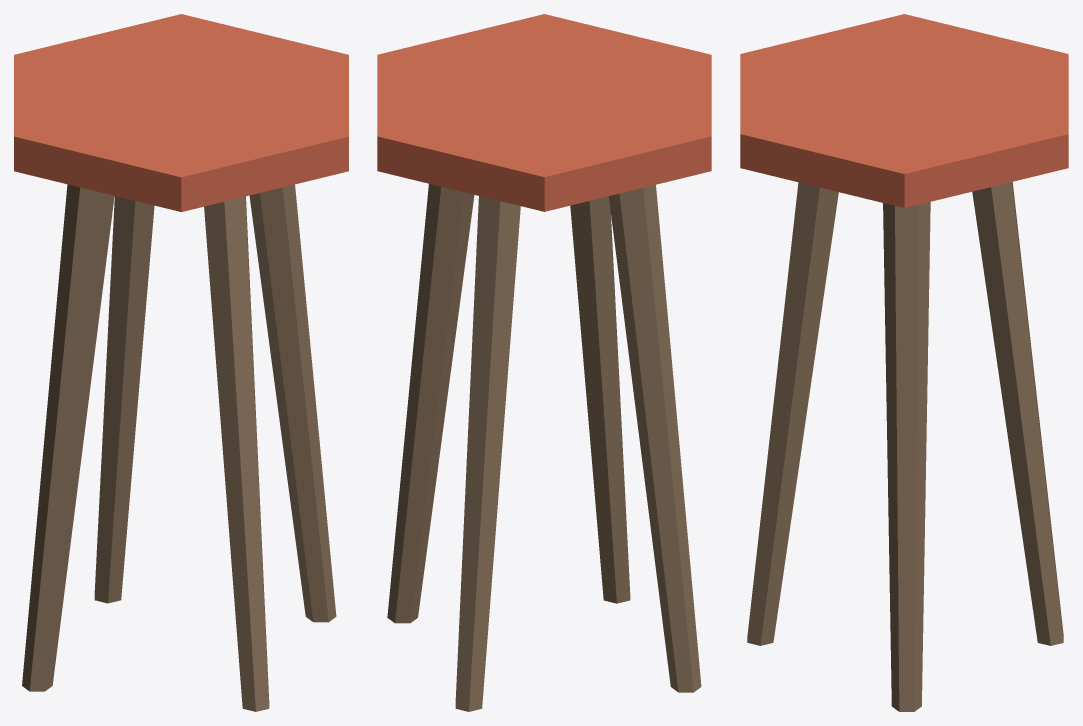
Rendered from Side Table.fbx.
3 renders of one model, left to right at view 1: azimuth 30°, elevation 25°; view 2: azimuth 150°, elevation 25°; view 3: azimuth 270°, elevation 25°, orthographic. The views are drawn at different scales.
Visible parts, largest first — view 1: Side Table; view 2: Side Table; view 3: Side Table.
Boxes of the visible parts, x1,y1,x2,y2 form: Side Table: (14,14,348,711); Side Table: (377,14,711,711); Side Table: (740,14,1068,711).
Bounding box in the file's own units: 60.48 × 96 × 52.38.
